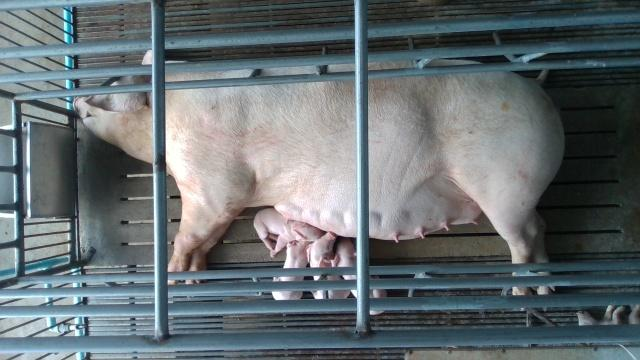piglet: (332, 237, 387, 315), (253, 207, 328, 257), (306, 231, 350, 299), (272, 242, 308, 300), (576, 304, 640, 325)
sow-sleep-lactate: (75, 48, 565, 312)
